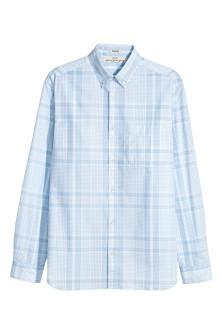teeshirt: (14, 42, 216, 303)
